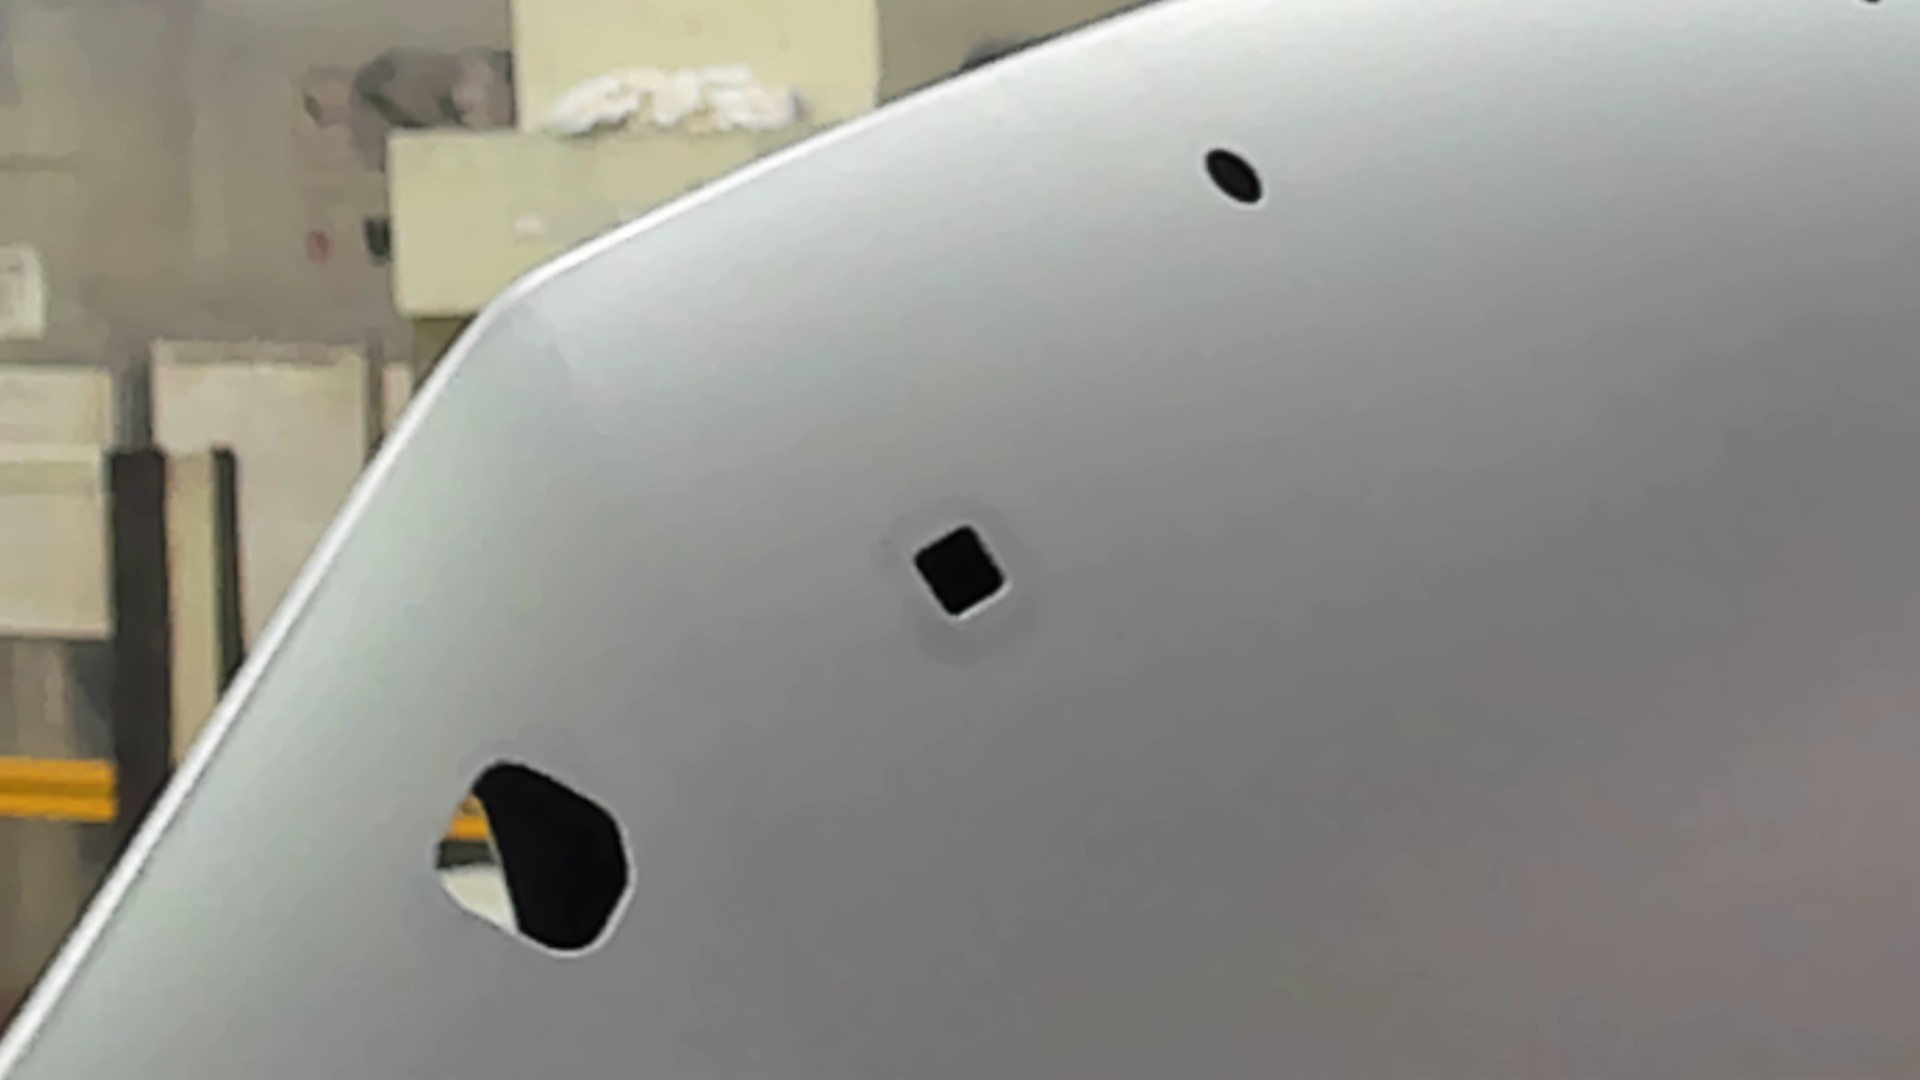capo: (1015, 211, 1920, 1080)
chico: (1200, 146, 1265, 208)
grande: (430, 760, 637, 965)
mediano: (905, 520, 1013, 628)
